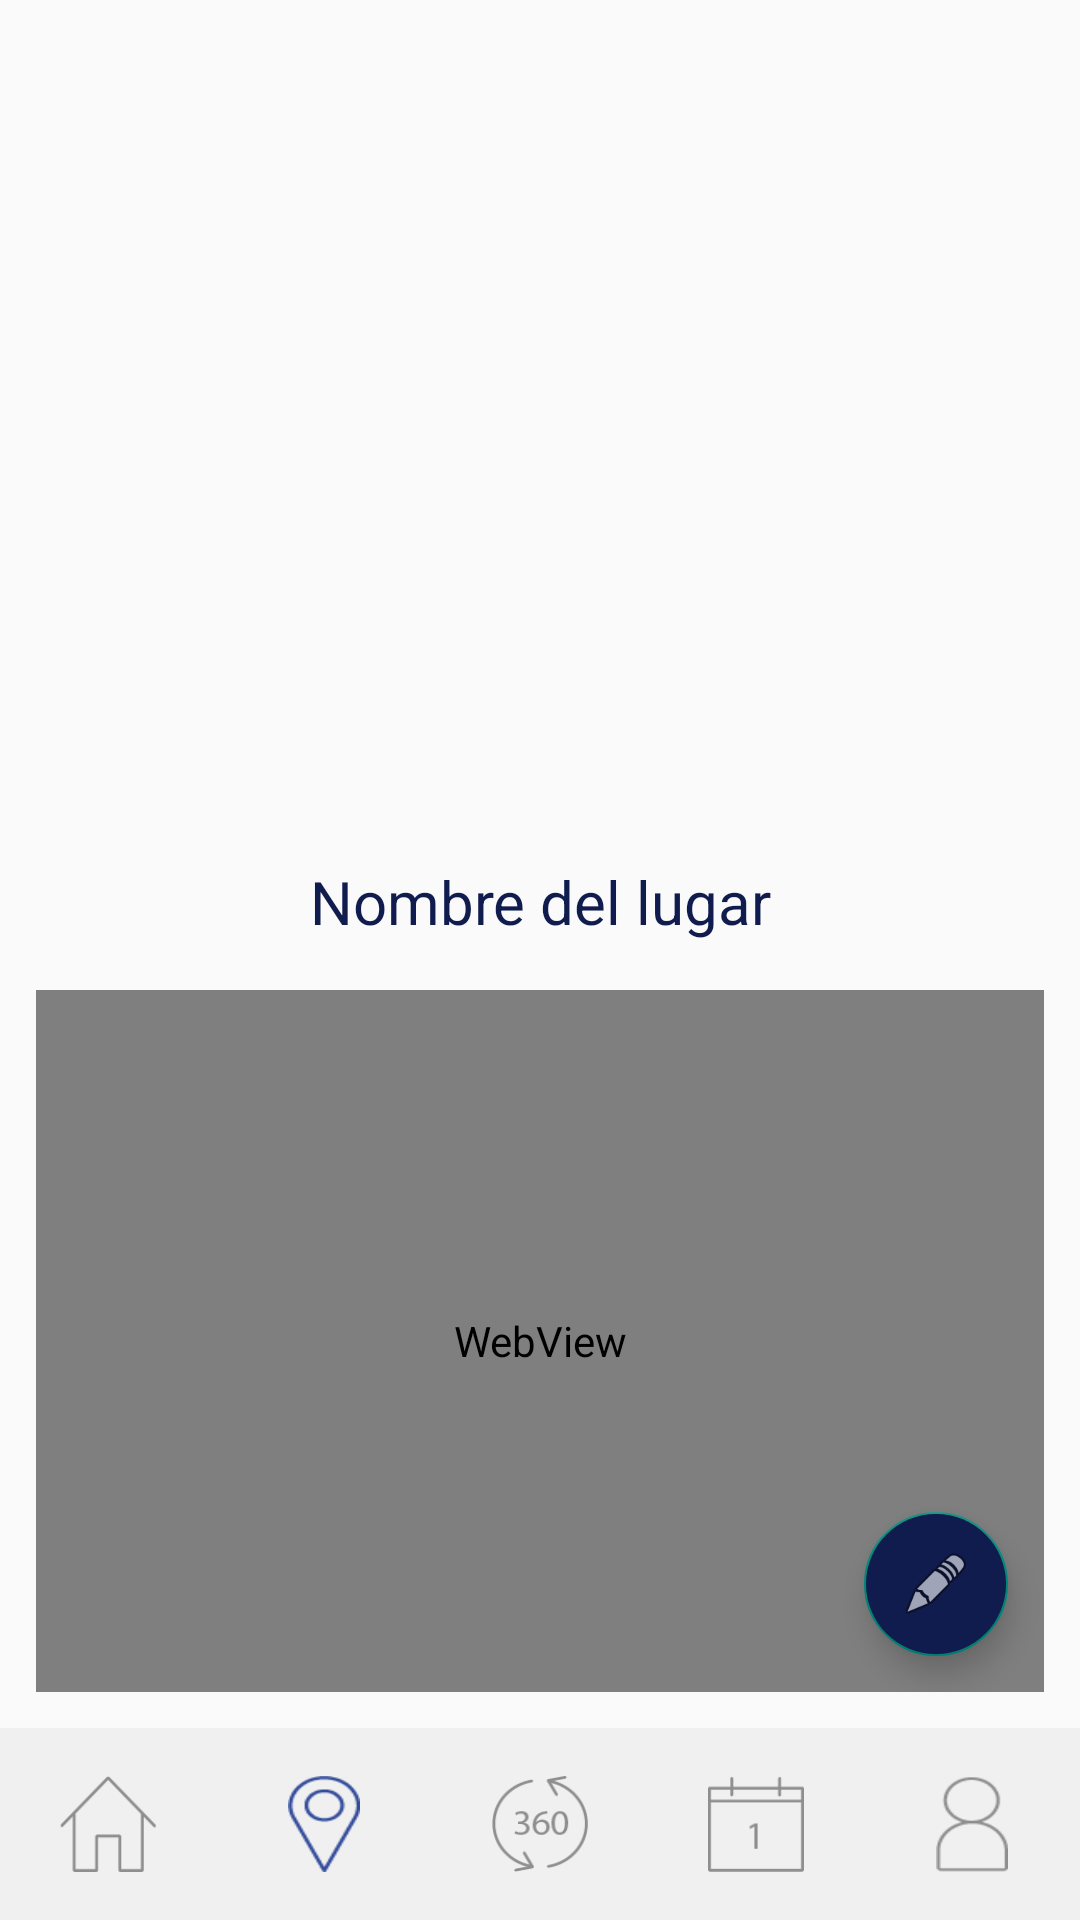

Where to tap for icons on this 1080w x 1920h app screen, as (x,y):
calendario: (756,1824)
edit: (936,1584)
home: (108,1824)
marker: (324,1824)
perfil: (972,1824)
